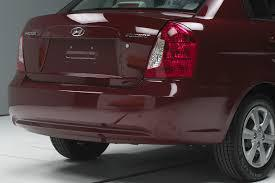rear-bumper-dent: (83, 90, 157, 142)
